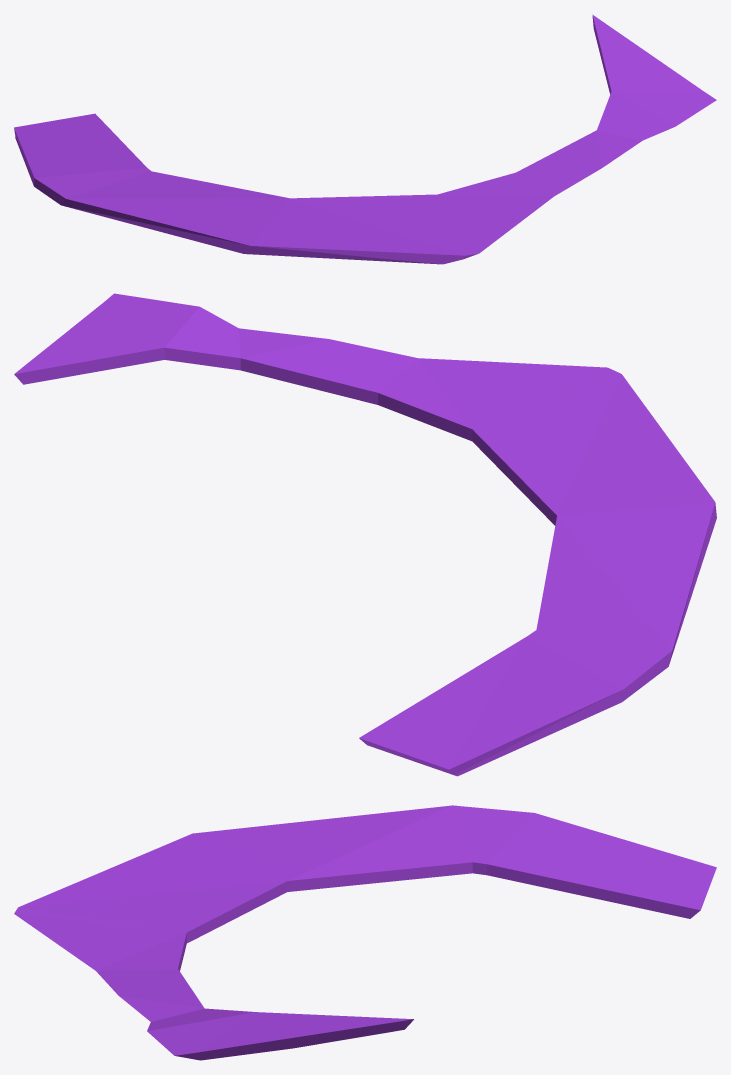
File: Glass_100_2_chunks.fbx
3 renders of one model, top to bottom at view 1: azimuth 30°, elevation 25°; view 2: azimuth 150°, elevation 25°; view 3: azimuth 270°, elevation 25°, orthographic. The views are drawn at different scales.
Visible parts, largest first — view 1: Glass_100_2_5, Glass_100_2_6, Glass_100_2_10, Glass_100_2_12, Glass_100_2_11, Glass_100_2_1, Glass_100_2_8, Glass_100_2_0, Glass_100_2_9, Glass_100_2_4; view 2: Glass_100_2_5, Glass_100_2_6, Glass_100_2_10, Glass_100_2_1, Glass_100_2_12, Glass_100_2_11, Glass_100_2_8, Glass_100_2_9, Glass_100_2_0, Glass_100_2_4; view 3: Glass_100_2_5, Glass_100_2_6, Glass_100_2_10, Glass_100_2_1, Glass_100_2_12, Glass_100_2_11, Glass_100_2_8, Glass_100_2_0, Glass_100_2_7, Glass_100_2_9, Glass_100_2_4, Glass_100_2_2.
Part boxes in pixels (box(x1,y1,x2,y2)): Glass_100_2_5: box(179, 190, 435, 263); Glass_100_2_6: box(21, 145, 201, 228); Glass_100_2_10: box(549, 70, 716, 180); Glass_100_2_12: box(427, 174, 580, 264); Glass_100_2_11: box(415, 174, 547, 242); Glass_100_2_1: box(14, 113, 122, 151); Glass_100_2_8: box(136, 188, 222, 236); Glass_100_2_0: box(600, 39, 672, 94); Glass_100_2_9: box(414, 152, 555, 198); Glass_100_2_4: box(592, 14, 627, 55); Glass_100_2_5: box(482, 395, 716, 569); Glass_100_2_6: box(479, 580, 691, 754); Glass_100_2_10: box(79, 293, 366, 389); Glass_100_2_1: box(359, 684, 510, 776); Glass_100_2_12: box(366, 347, 636, 405); Glass_100_2_11: box(368, 371, 605, 450); Glass_100_2_8: box(567, 549, 701, 594); Glass_100_2_9: box(310, 370, 495, 447); Glass_100_2_0: box(43, 322, 177, 374); Glass_100_2_4: box(14, 351, 80, 384); Glass_100_2_5: box(48, 824, 357, 937); Glass_100_2_6: box(354, 805, 652, 889); Glass_100_2_10: box(109, 978, 291, 1060); Glass_100_2_1: box(587, 848, 716, 918); Glass_100_2_12: box(14, 895, 148, 984); Glass_100_2_11: box(79, 902, 199, 977); Glass_100_2_8: box(276, 816, 383, 865); Glass_100_2_0: box(212, 1013, 355, 1058); Glass_100_2_7: box(345, 862, 425, 885); Glass_100_2_9: box(148, 922, 202, 988); Glass_100_2_4: box(341, 1016, 413, 1037); Glass_100_2_2: box(547, 865, 596, 898).
Bounding box in the file's own units: 2534 × 461 × 2392.
